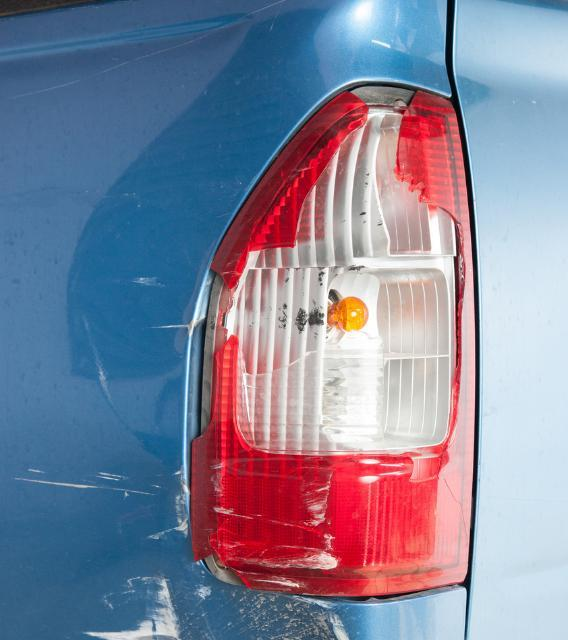Light: (180, 50, 474, 599)
